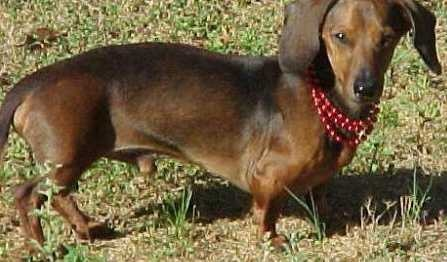dog: (0, 0, 447, 254)
